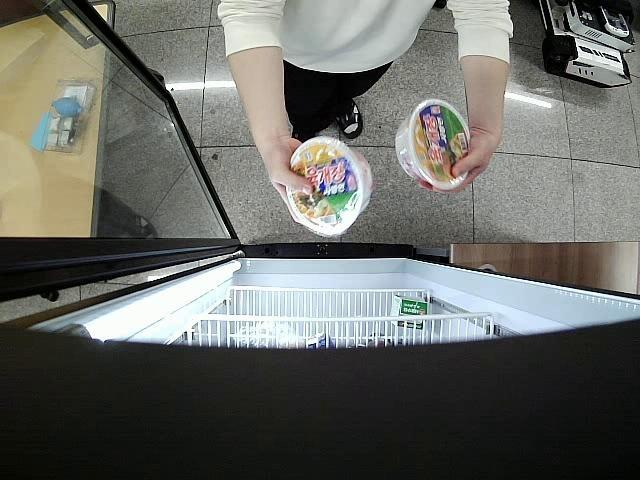09_yukGaeJang: (288, 136, 373, 238), (393, 98, 468, 188)
